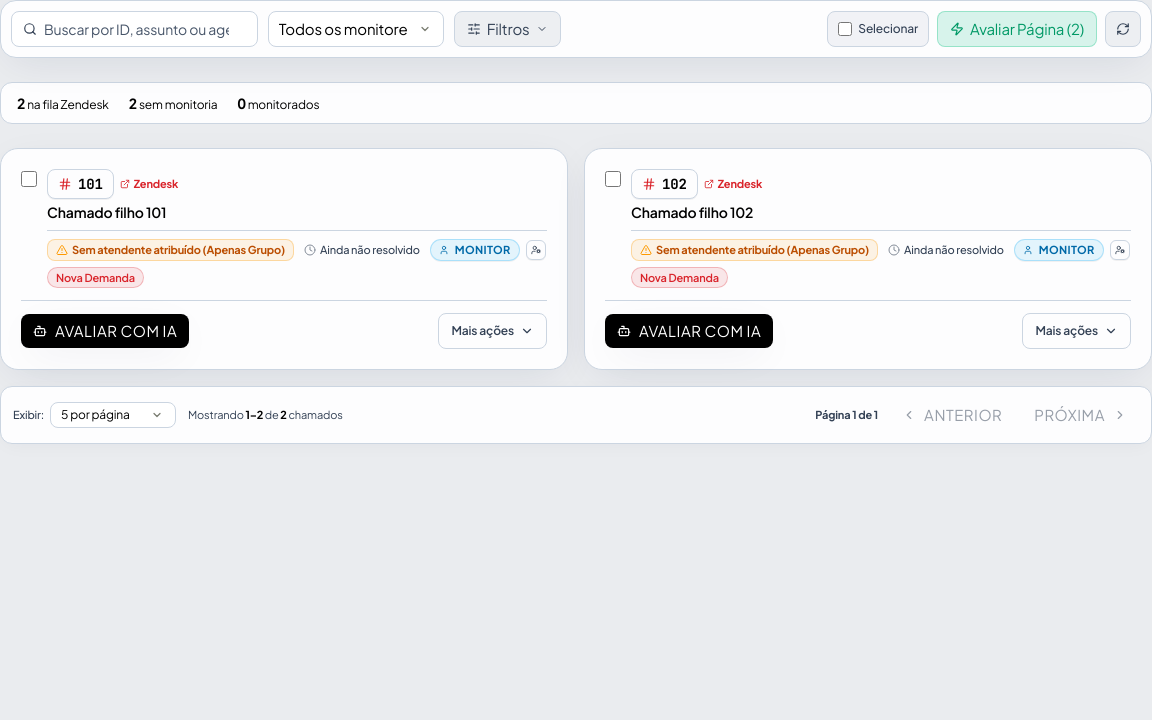
Scenario: IA de chamados filhos › avalia em lote apenas os filhos selecionados e preserva o parecer na fila
The width and height of the screenshot is (1152, 720).
Step 1. Click the 2nd checkbox titled "Selecionar para avaliação" → [613, 179], box [605,171,621,187]
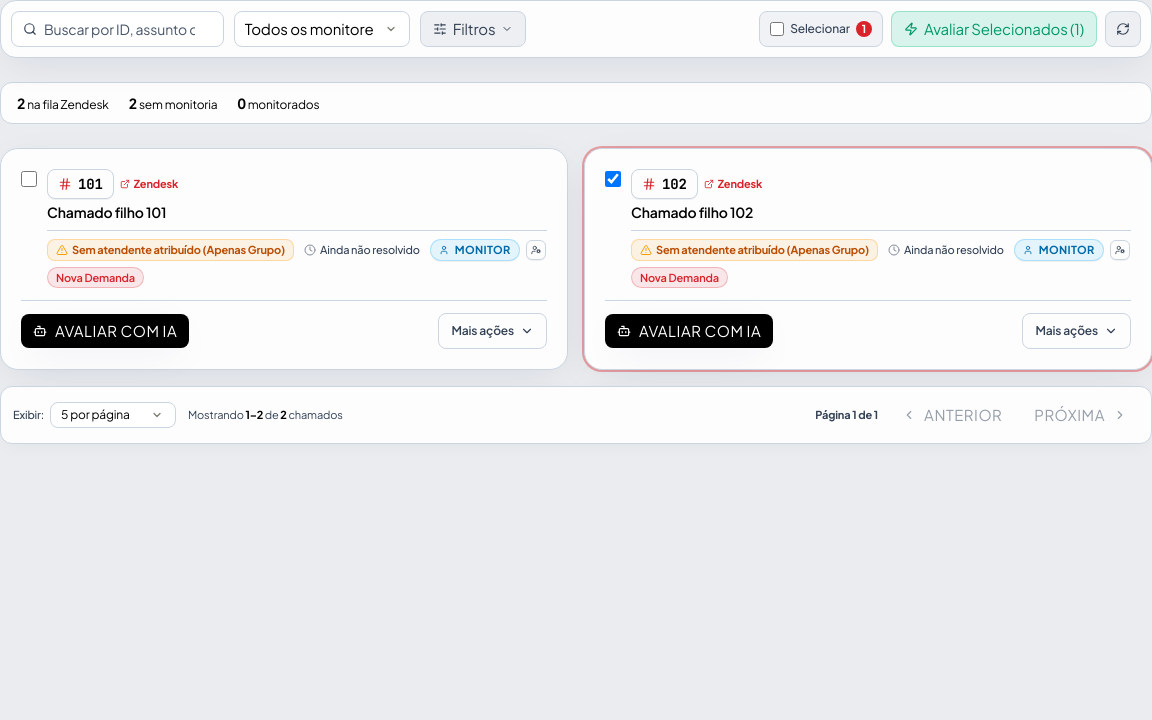
Step 2. Click the button "Avaliar Selecionados (1)" → [994, 29], box [891,11,1097,47]
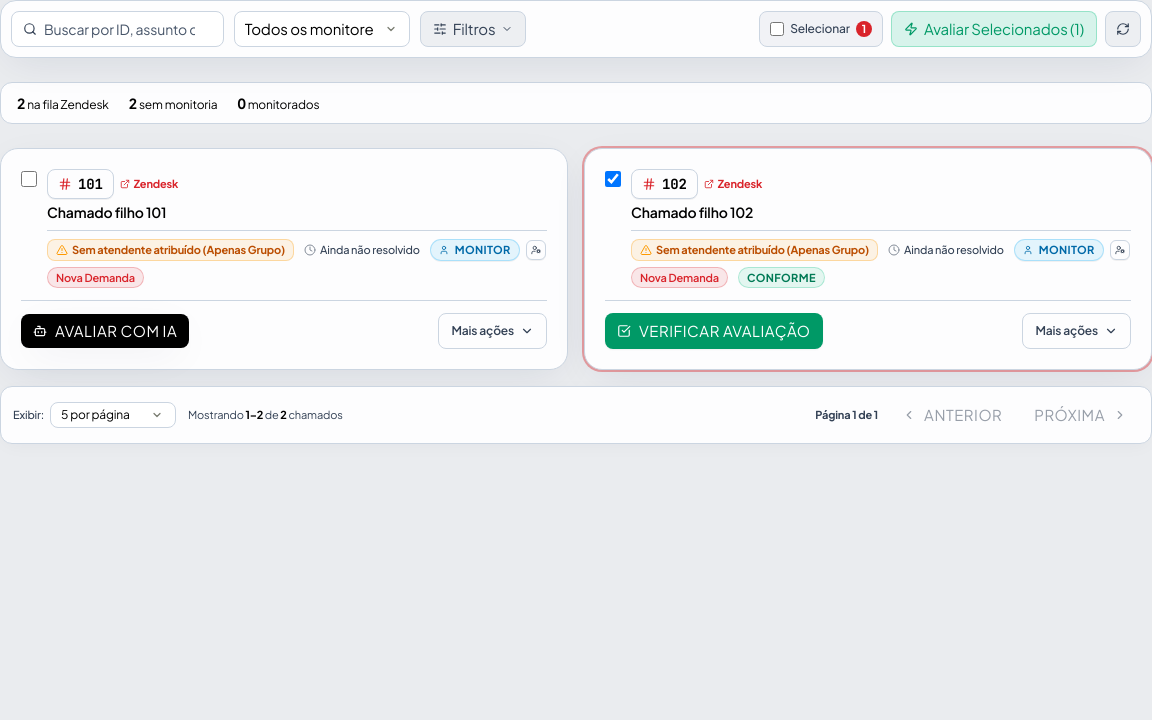
Step 3. Click the button "Mais ações" below "Conforme" → [1077, 331], box [1022,313,1131,349]
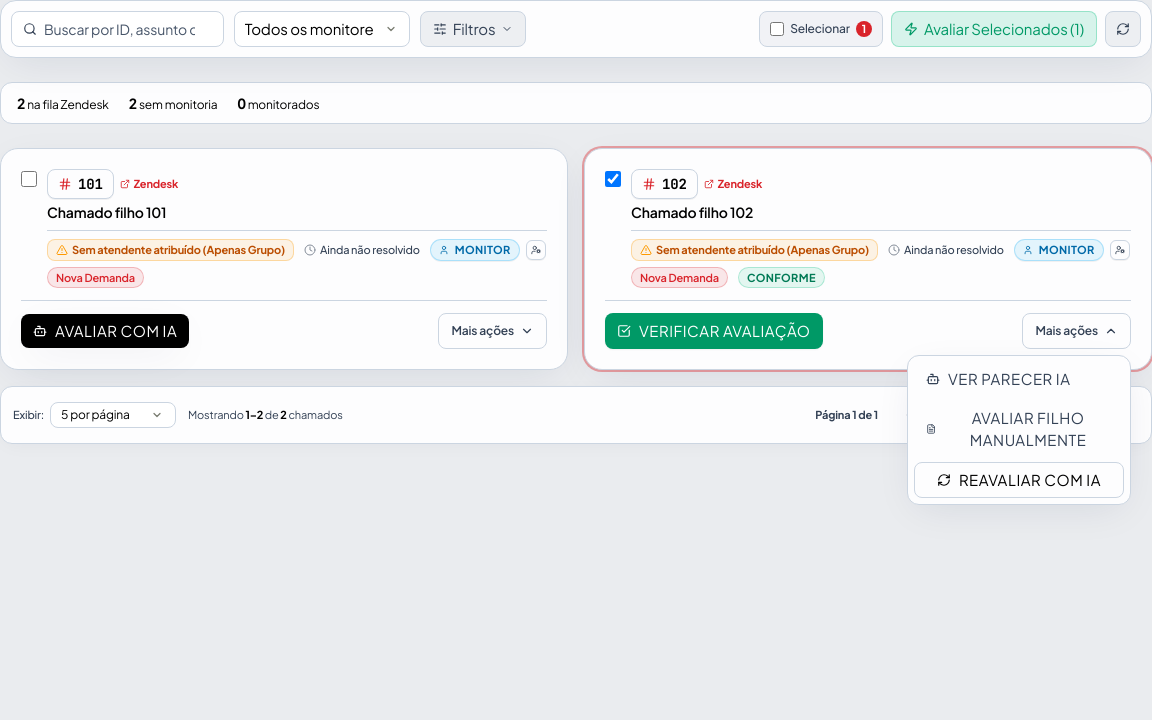
Step 4. Click the button "Ver Parecer IA" → [1019, 379], box [914,362,1124,396]
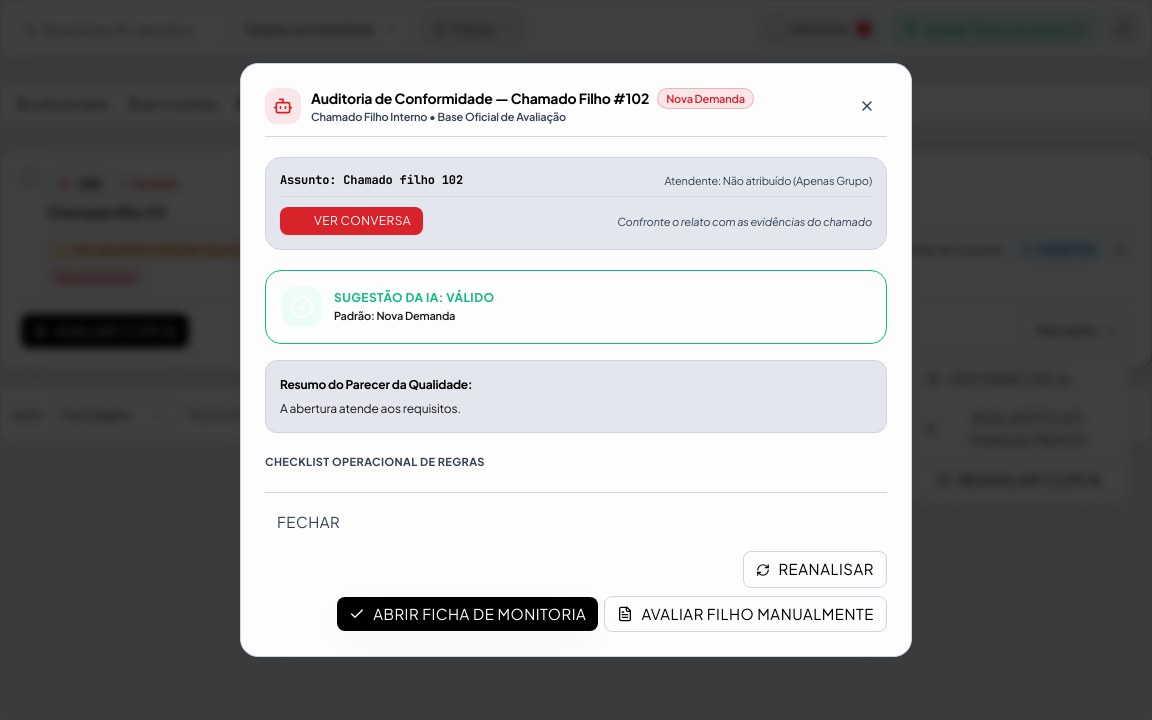
Now the text "A abertura atende aos requisitos." is shown, box [280,401,461,416]
